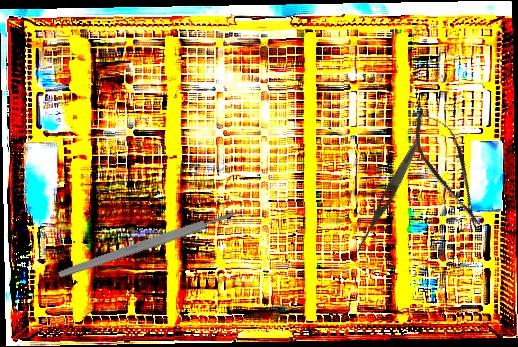Dressing Forceps: (353, 137, 423, 256)
Micro Scissor: (402, 99, 496, 237)
Scalpel Handle: (57, 209, 237, 280)
